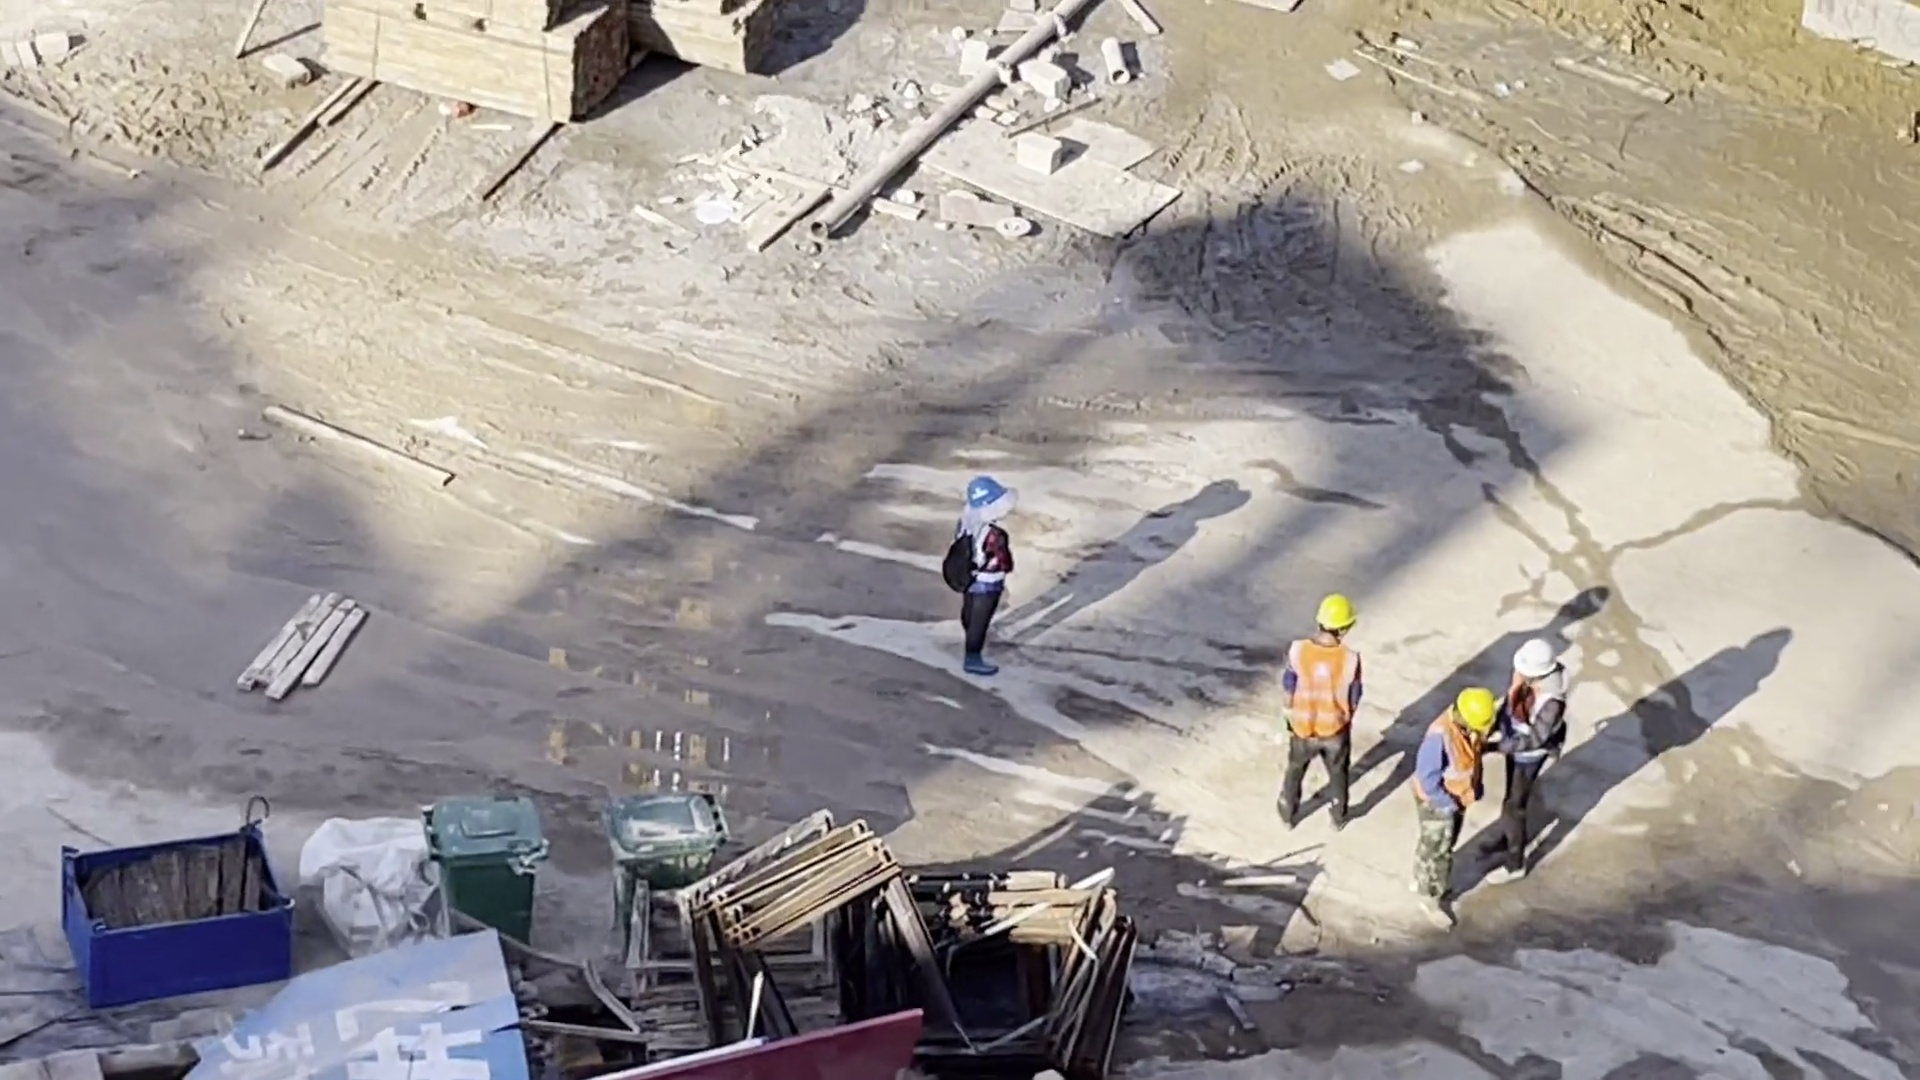helmet: (1509, 634, 1555, 681), (1459, 689, 1496, 733), (1321, 596, 1354, 631), (966, 481, 1006, 506)
person: (1411, 687, 1493, 923), (1278, 601, 1363, 824), (1500, 639, 1570, 883), (955, 480, 1016, 672)
vest: (1286, 635, 1354, 734), (1425, 712, 1483, 806), (966, 520, 1001, 593)
